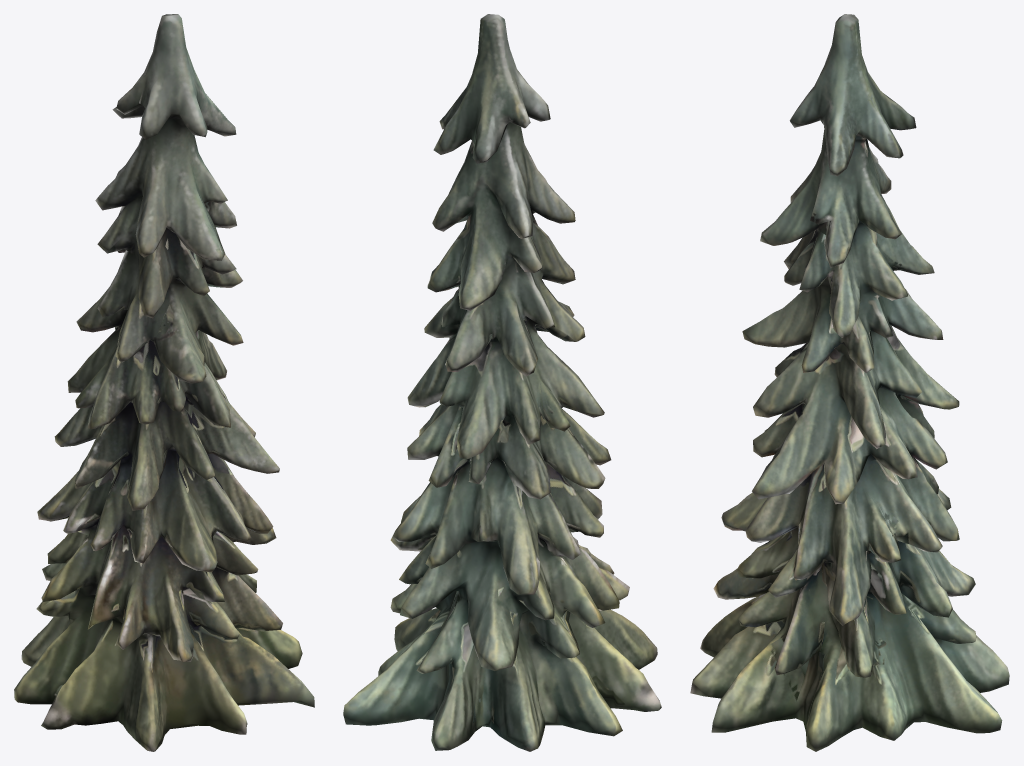
Rendered from christmas_tree_statue.glb.
The picture shows the model from 3 angles, left to right: view 1: azimuth 30°, elevation 25°; view 2: azimuth 150°, elevation 25°; view 3: azimuth 270°, elevation 25°; orthographic projection. The views are drawn at different scales.
Visible parts, largest first — view 1: geo1; view 2: geo1; view 3: geo1.
Part boxes in pixels (bbox=[...]): geo1: bbox=[14, 14, 314, 751]; geo1: bbox=[343, 14, 661, 751]; geo1: bbox=[690, 14, 1009, 751].
Bounding box in the file's own units: 0.1713 × 0.4185 × 0.1775.
1 material, 1 textured.
